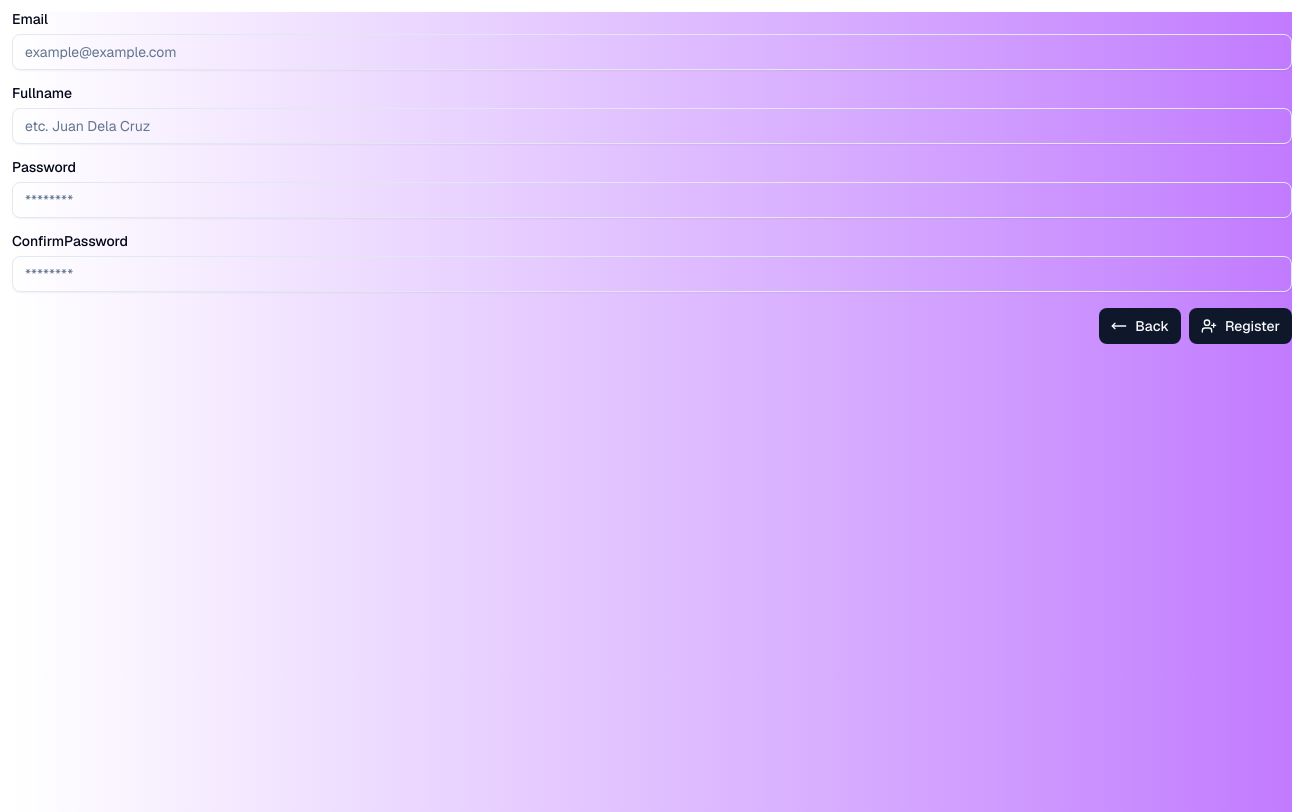
Test: AuthRegisterForm › Validation › shows error message for password less than 8 characters
In the password field labelled "password": (652, 200) [12, 182, 1292, 218], type "Short1!"
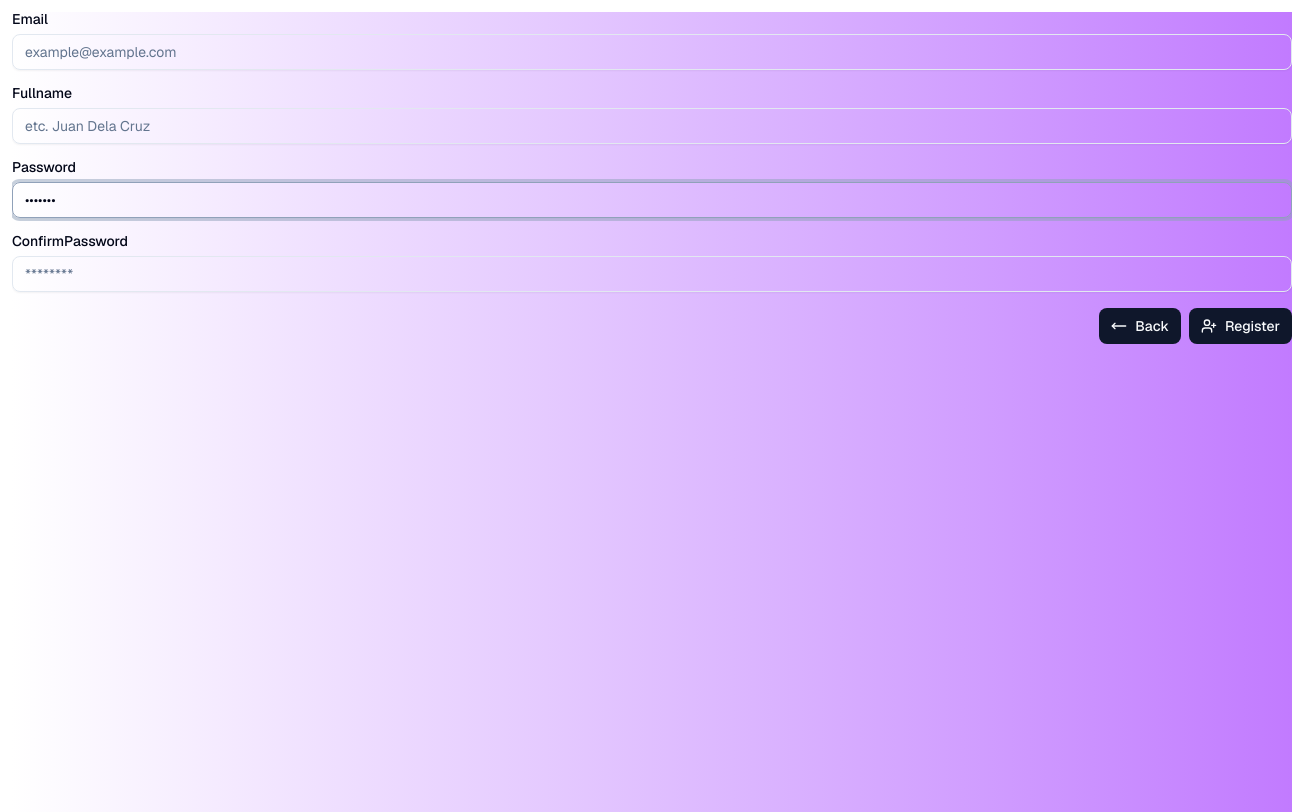
Click the button "Register": (1240, 326) [1189, 308, 1292, 344]
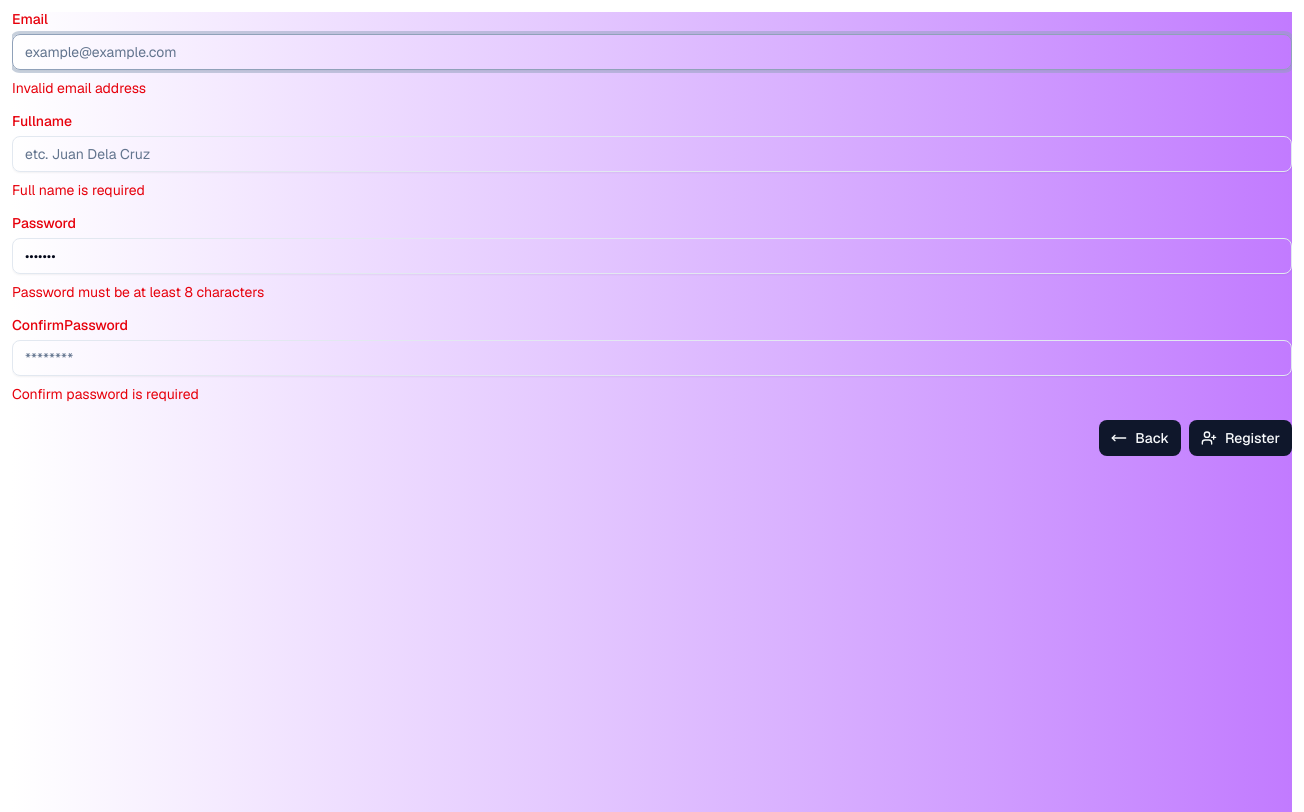
Check: the text "Password must be at least 8 characters" is shown, box [12, 283, 264, 301]
